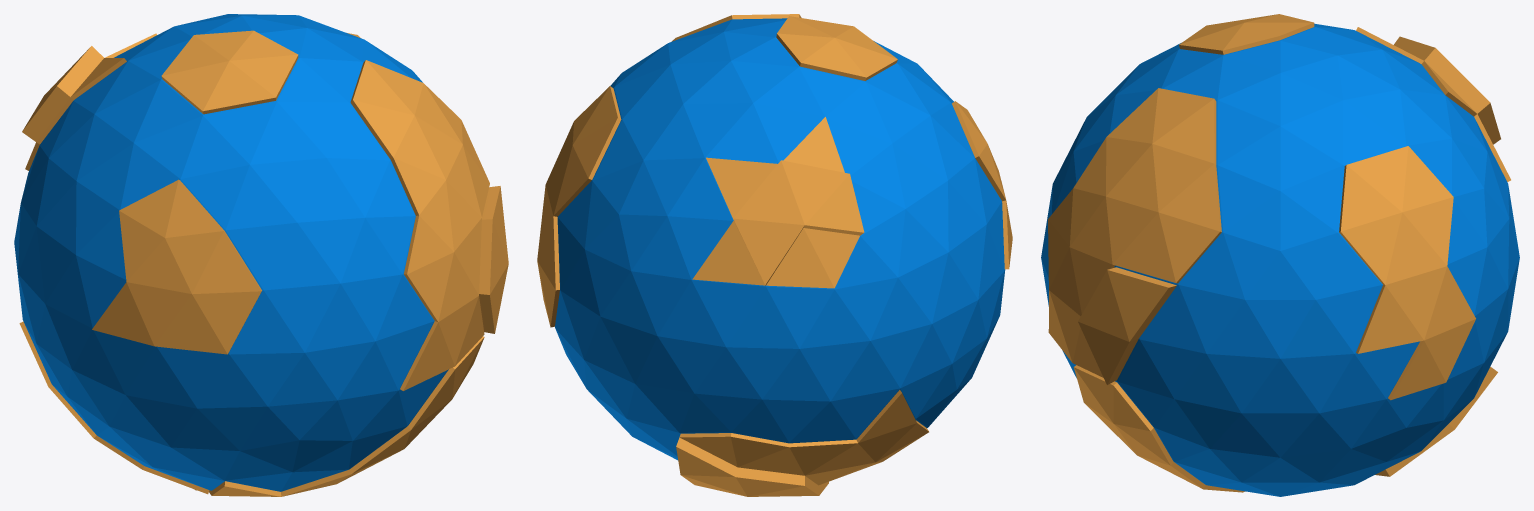
Rendered from playerPlanet.fbx.
The picture shows the model from 3 angles, left to right: view 1: azimuth 30°, elevation 25°; view 2: azimuth 150°, elevation 25°; view 3: azimuth 270°, elevation 25°; orthographic projection. The views are drawn at different scales.
Visible parts, largest first — view 1: Icosphere.001, Icosphere; view 2: Icosphere.001, Icosphere; view 3: Icosphere.001, Icosphere.
Boxes of the visible parts, bbox=[...] form: Icosphere.001: bbox=[14, 14, 448, 491]; Icosphere: bbox=[19, 30, 508, 496]; Icosphere.001: bbox=[555, 18, 1005, 460]; Icosphere: bbox=[537, 14, 1012, 496]; Icosphere.001: bbox=[1041, 23, 1519, 496]; Icosphere: bbox=[1048, 14, 1510, 492].
Size of the model in its own units: 209 by 214 by 209.
